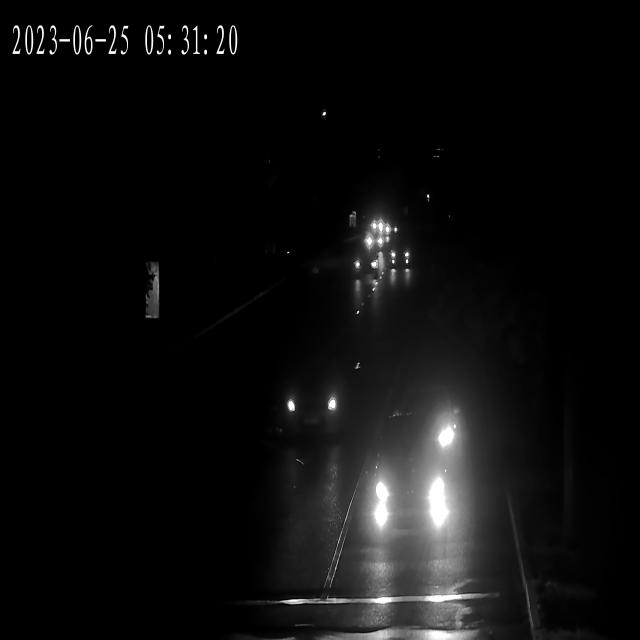Car: (362, 438, 450, 568), (277, 351, 344, 455), (355, 244, 381, 280), (392, 245, 412, 271), (363, 227, 383, 251), (383, 215, 402, 239), (372, 218, 387, 232)
